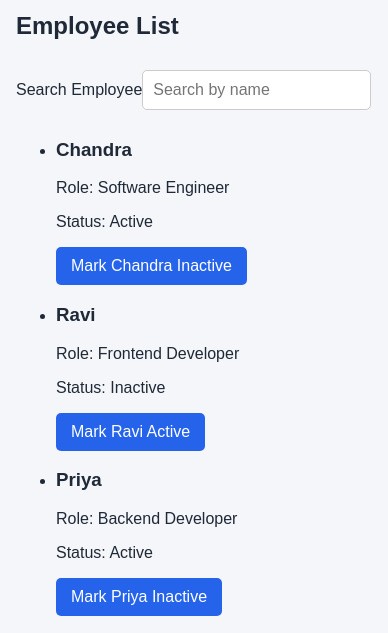
Test case: EmployeeList Component › changes employee status from Active to Inactive
Step 1. Click the button "Mark Chandra Inactive" → (152, 266), box [56, 247, 247, 285]
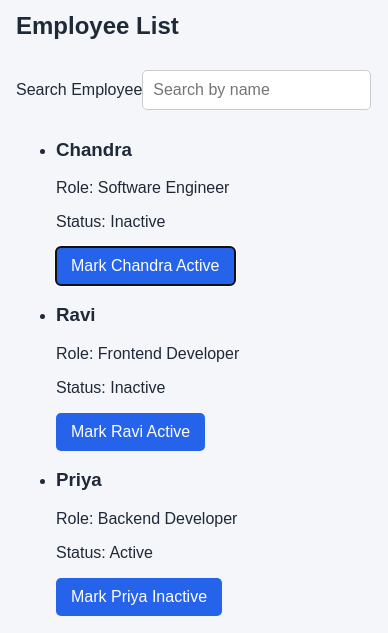
Now the text "Inactive" below "Software Engineer" is shown, box [110, 213, 165, 230]
Now the button "Mark Chandra Active" is shown, box [56, 247, 234, 285]
